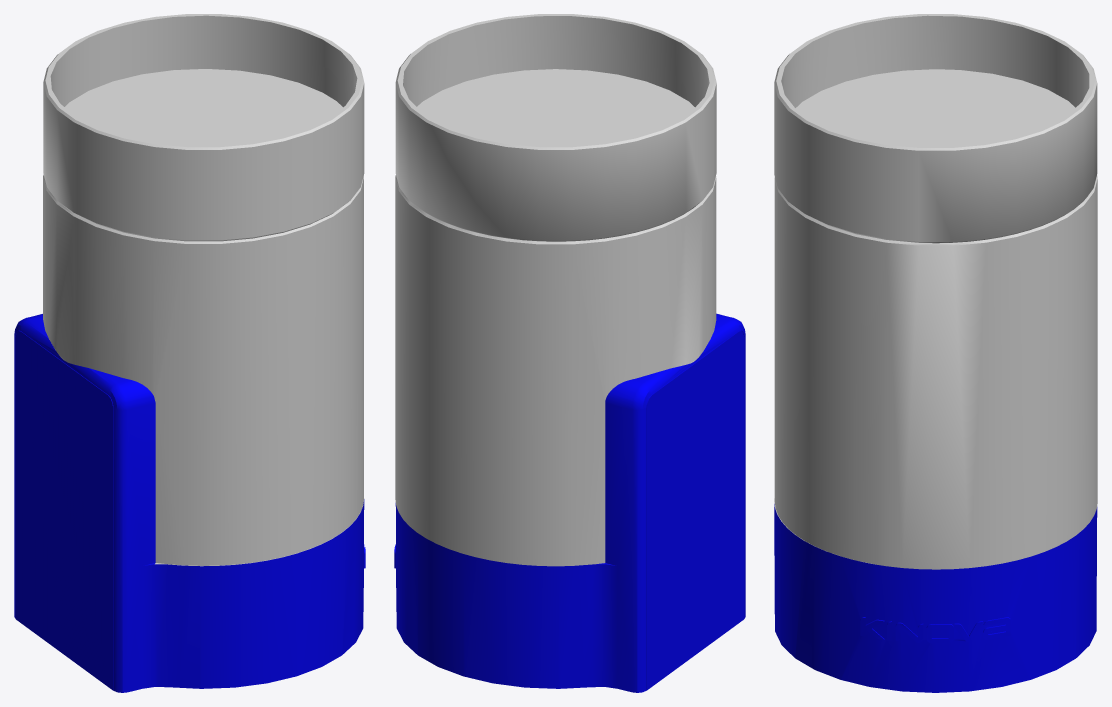
The model's file is base_link.dae.gltf.
3 renders of one model, left to right at view 1: azimuth 30°, elevation 25°; view 2: azimuth 150°, elevation 25°; view 3: azimuth 270°, elevation 25°, orthographic.
Parts seen in each view (by area): view 1: base_link; view 2: base_link; view 3: base_link.
Part boxes in pixels (left/top/right/bottom): base_link: left=14, top=14, right=365, bottom=692; base_link: left=394, top=14, right=745, bottom=692; base_link: left=774, top=14, right=1097, bottom=692.
Bounding box in the file's own units: 0.0925 × 0.1708 × 0.0922.
